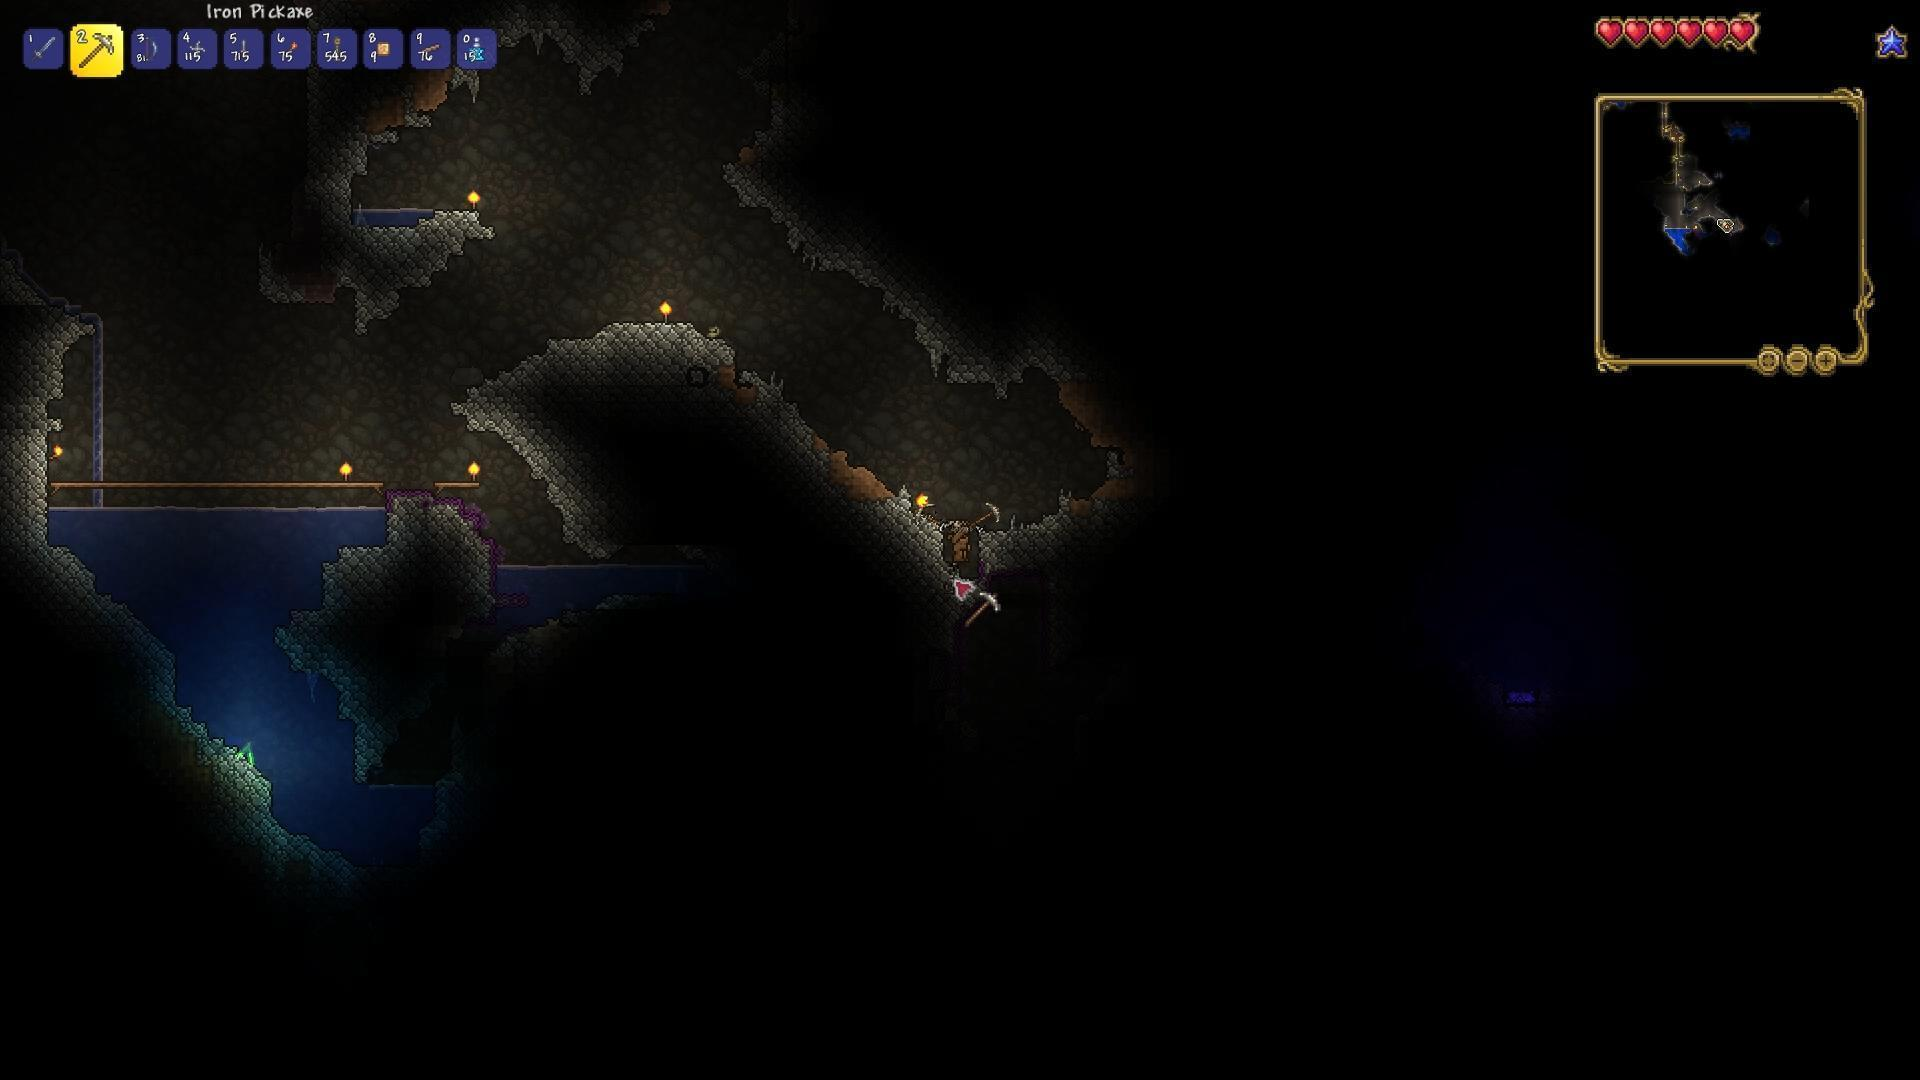bow: (145, 34, 158, 62)
glowstick: (232, 733, 261, 767)
knife: (237, 37, 248, 61)
liquid: (76, 498, 105, 518), (233, 500, 261, 520), (131, 498, 156, 520), (47, 500, 74, 520), (154, 501, 185, 517), (390, 202, 414, 222), (310, 504, 339, 520), (260, 500, 286, 517), (336, 502, 361, 520), (212, 500, 232, 521), (105, 500, 129, 517), (360, 502, 382, 520), (414, 202, 433, 222), (368, 204, 390, 220), (185, 501, 211, 514), (498, 560, 522, 575), (550, 562, 579, 572), (286, 502, 309, 516), (522, 560, 547, 571)
pickaxe: (79, 33, 115, 70)
platform: (44, 479, 76, 498), (183, 472, 214, 493), (214, 476, 244, 495), (326, 480, 352, 500), (156, 476, 186, 493), (299, 475, 319, 500), (243, 477, 269, 496), (454, 480, 485, 495), (75, 476, 98, 495), (352, 483, 386, 495), (98, 480, 125, 495), (273, 476, 293, 495), (128, 480, 154, 493), (434, 483, 455, 496)
recallP: (469, 37, 488, 65)
rope: (331, 33, 344, 61)
shuriken: (186, 36, 204, 59)
sword: (29, 36, 55, 66)
torchT: (42, 443, 65, 463), (339, 458, 356, 483), (465, 460, 483, 484), (658, 299, 674, 324), (465, 189, 483, 211)
